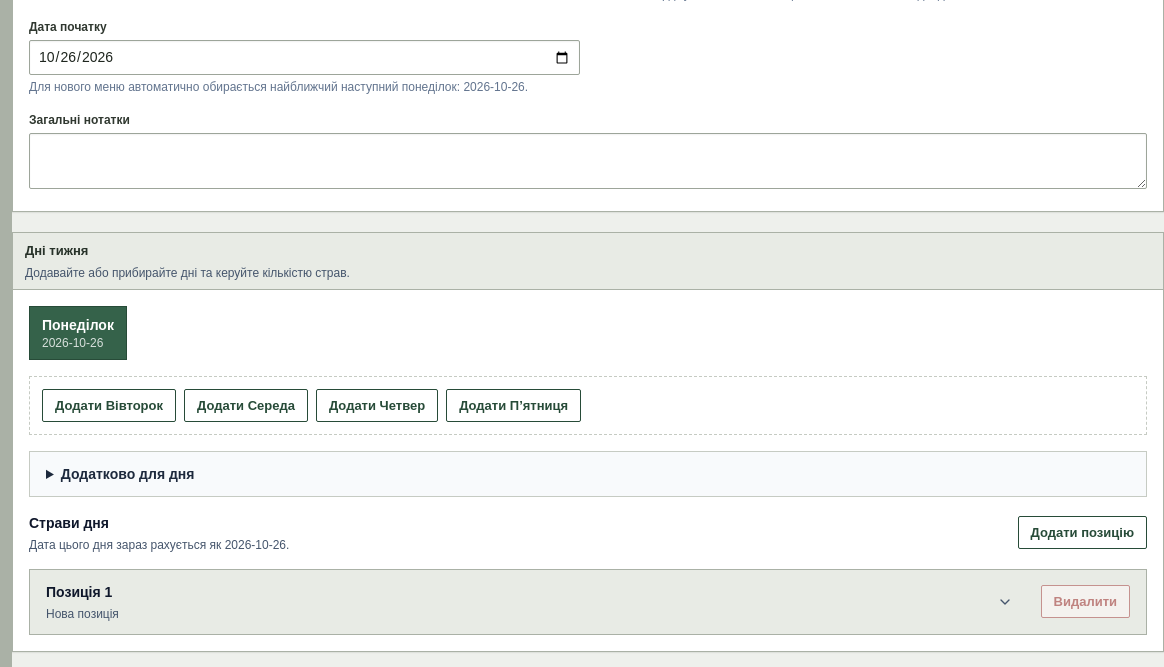
WeeklyMenuEditorForm › closes the technical card search after a card is selected
This screenshot has width=1164, height=667.
(page scrolled)
What coordinates should you click on to do the following:
click the button "Позиція 1 Нова позиція"
I would click on:
 (75, 592)
Its box is [30,570,1028,634].
(page scrolled)
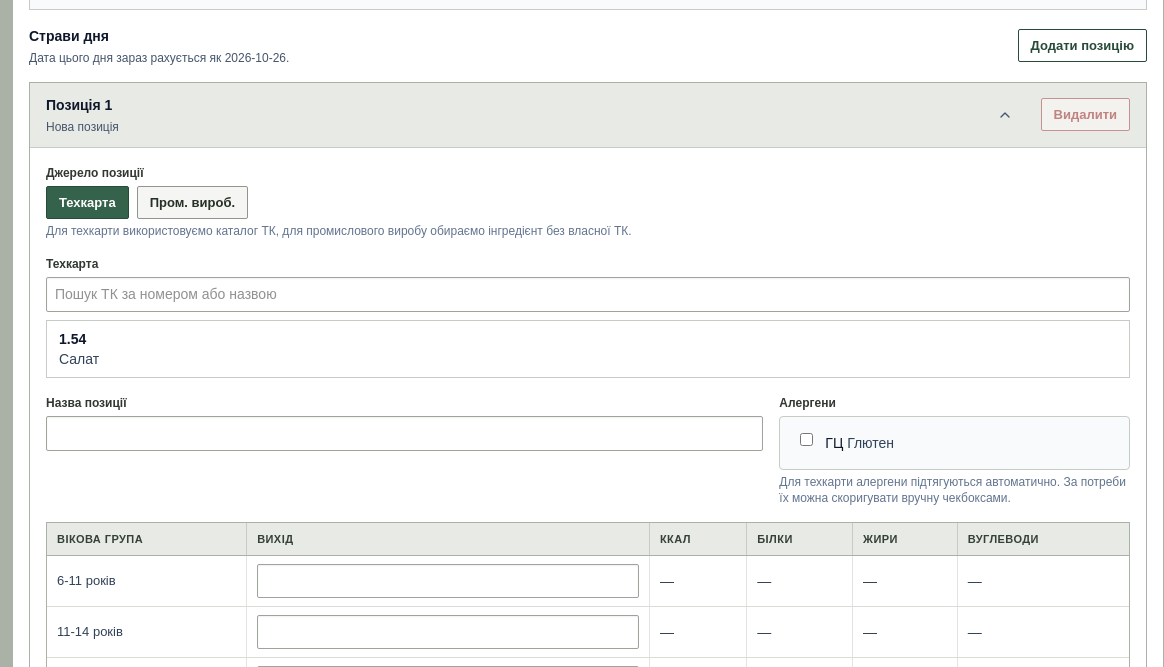
What coordinates should you click on to do the following:
click the button "1.54 Салат"
I would click on:
 (79, 358)
Its box is [47,320,1129,376].
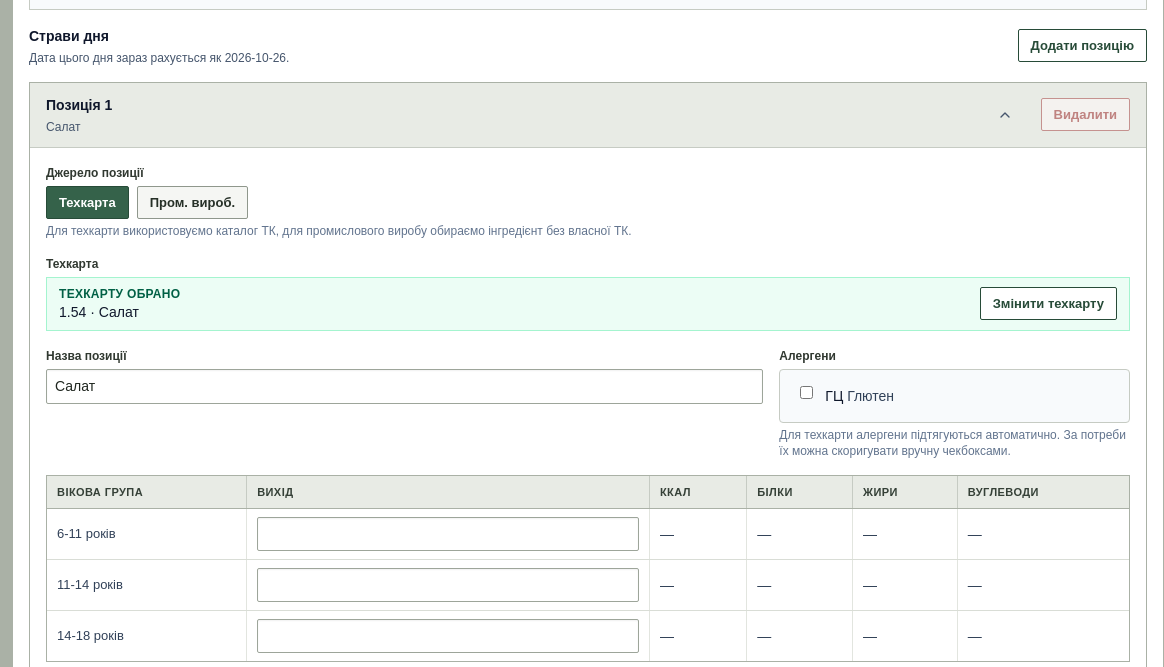
Expected: the field with placeholder "Пошук ТК за номером або назвою" is not shown
Now the text "Техкарту обрано" is shown, box [59,286,180,302]
What coordinates should you click on to do the following:
click the button "Змінити техкарту"
I would click on:
 (1048, 304)
Its box is [980,287,1117,320].
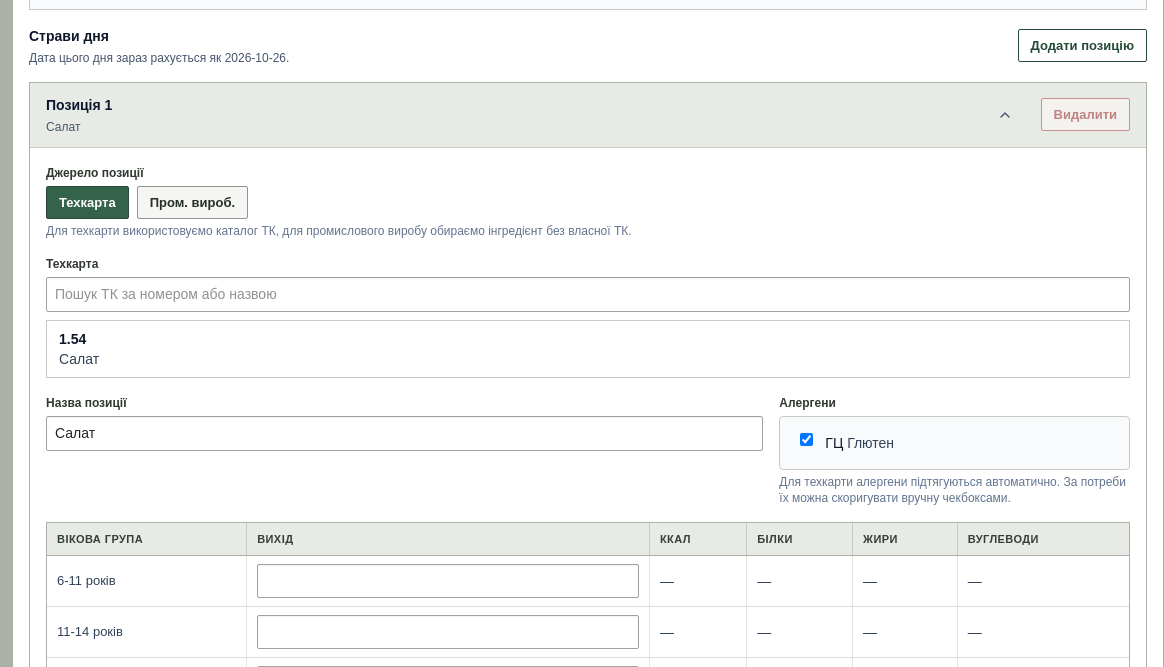
Now the field with placeholder "Пошук ТК за номером або назвою" is shown, box [46,276,1130,312]
